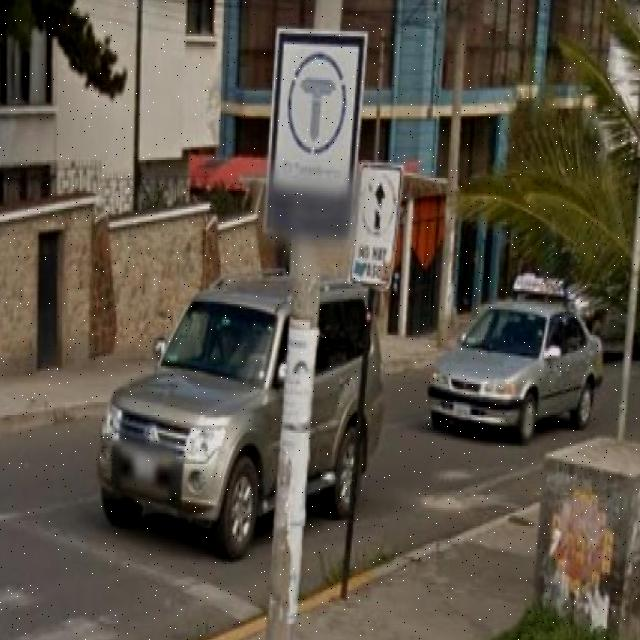car: (107, 281, 375, 554), (434, 281, 604, 448)
